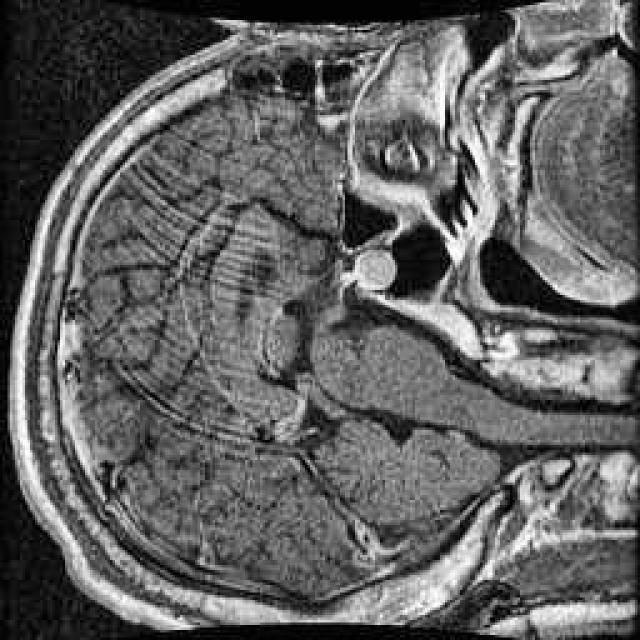Tumor: (340, 243, 405, 298)
